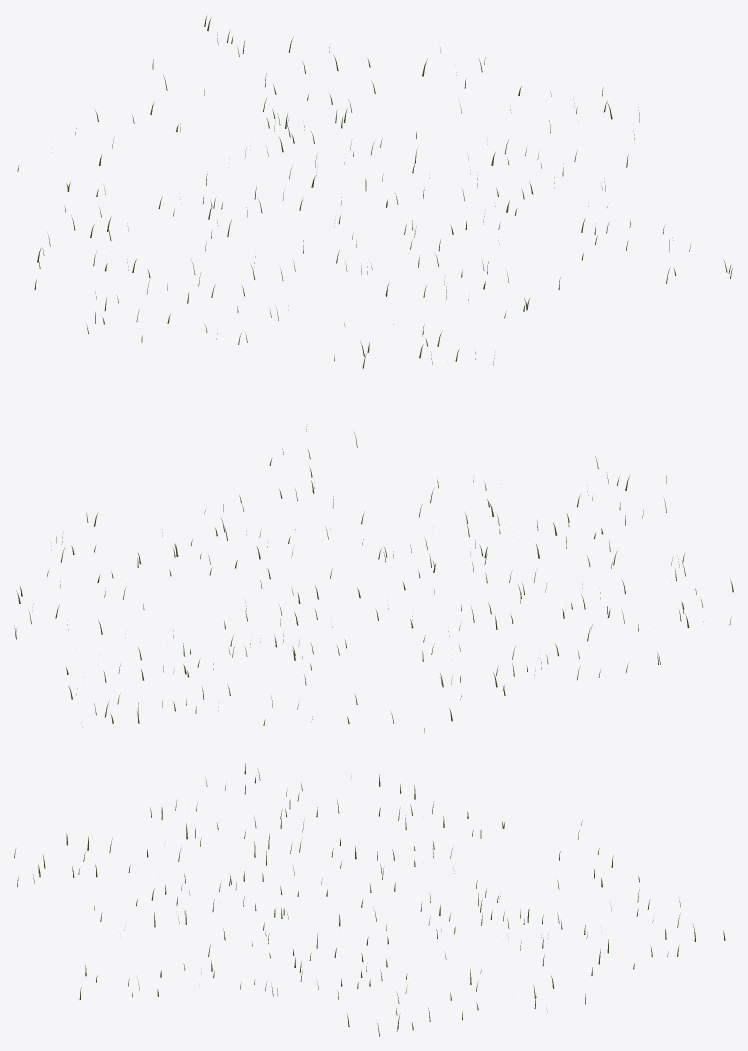
3 renders of one model, top to bottom at view 1: azimuth 30°, elevation 25°; view 2: azimuth 150°, elevation 25°; view 3: azimuth 270°, elevation 25°, orthographic. The views are drawn at different scales.
Visible parts, largest first — view 1: GrassPatch; view 2: GrassPatch; view 3: GrassPatch.
Part boxes in pixels (bbox=[...]): GrassPatch: bbox=[17, 16, 732, 368]; GrassPatch: bbox=[14, 424, 733, 732]; GrassPatch: bbox=[14, 763, 725, 1036].
Bounding box in the file's own units: 17.13 × 0.491 × 19.75.
